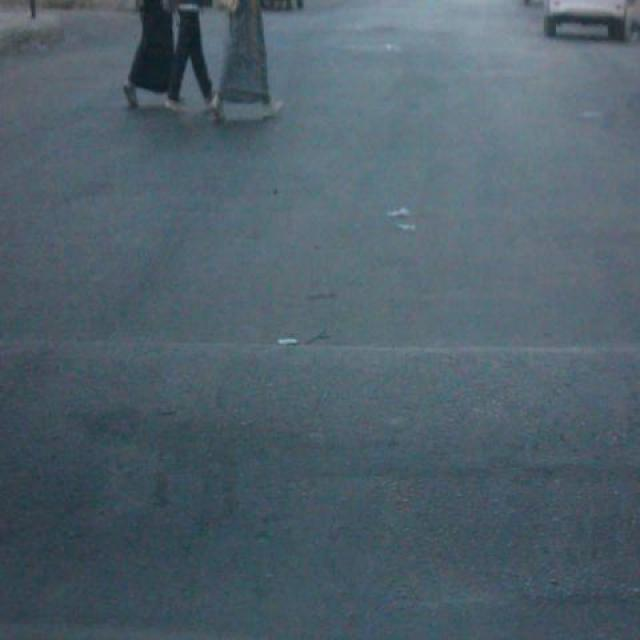Unmarked Bump: (0, 333, 640, 639)
